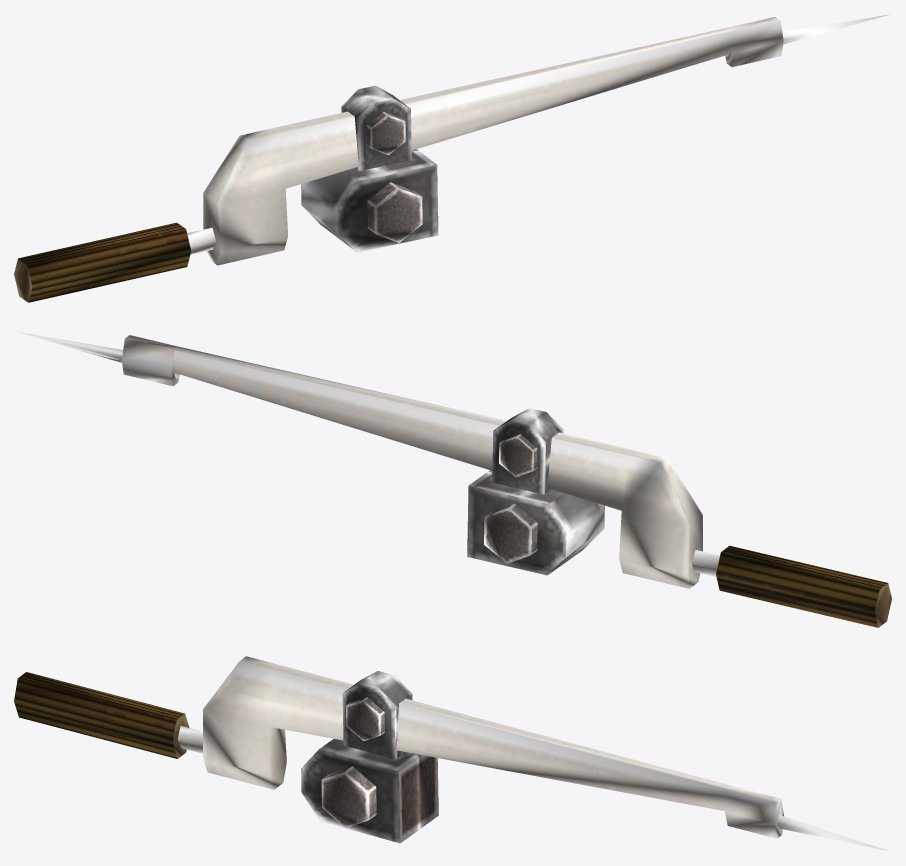
Rendered from Robot01.Head1.fbx.
3 views of the same model, one above another, from view 1: azimuth 30°, elevation 25°; view 2: azimuth 150°, elevation 25°; view 3: azimuth 330°, elevation 25° (orthographic).
Parts seen in each view (by area): view 1: mesh_1287, mesh_1286; view 2: mesh_1287, mesh_1286; view 3: mesh_1287, mesh_1286.
Part boxes in pixels (x1,y1,x2,y2): mesh_1287: [14, 14, 890, 302]; mesh_1286: [366, 112, 422, 242]; mesh_1287: [16, 331, 891, 627]; mesh_1286: [484, 434, 537, 563]; mesh_1287: [14, 656, 889, 851]; mesh_1286: [321, 697, 384, 827].
Bounding box in the file's own units: 222 × 33.59 × 23.44.
